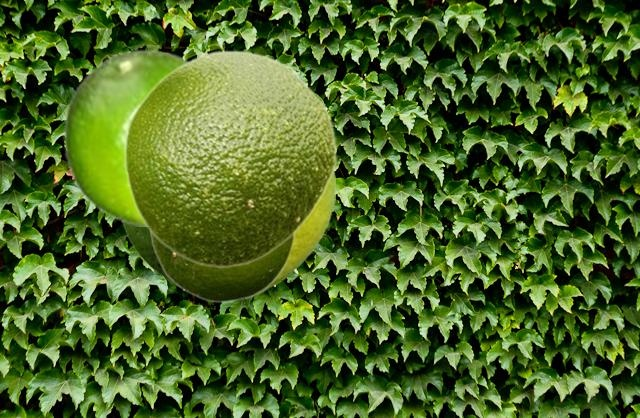calamansi: (123, 49, 336, 268), (118, 175, 334, 297), (63, 48, 191, 225), (149, 232, 294, 302)
